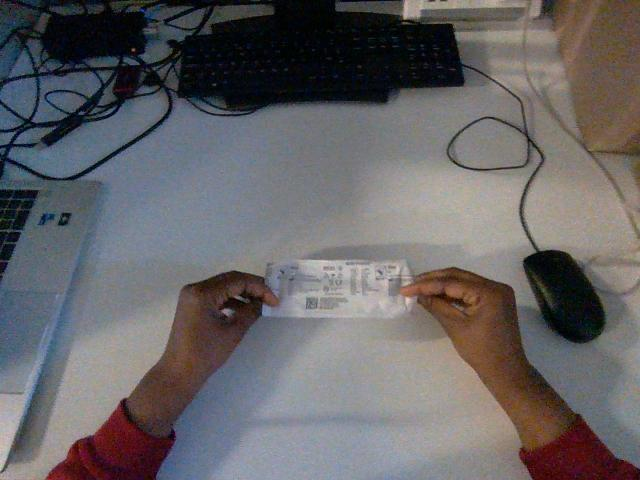syringe: (263, 260, 414, 317)
